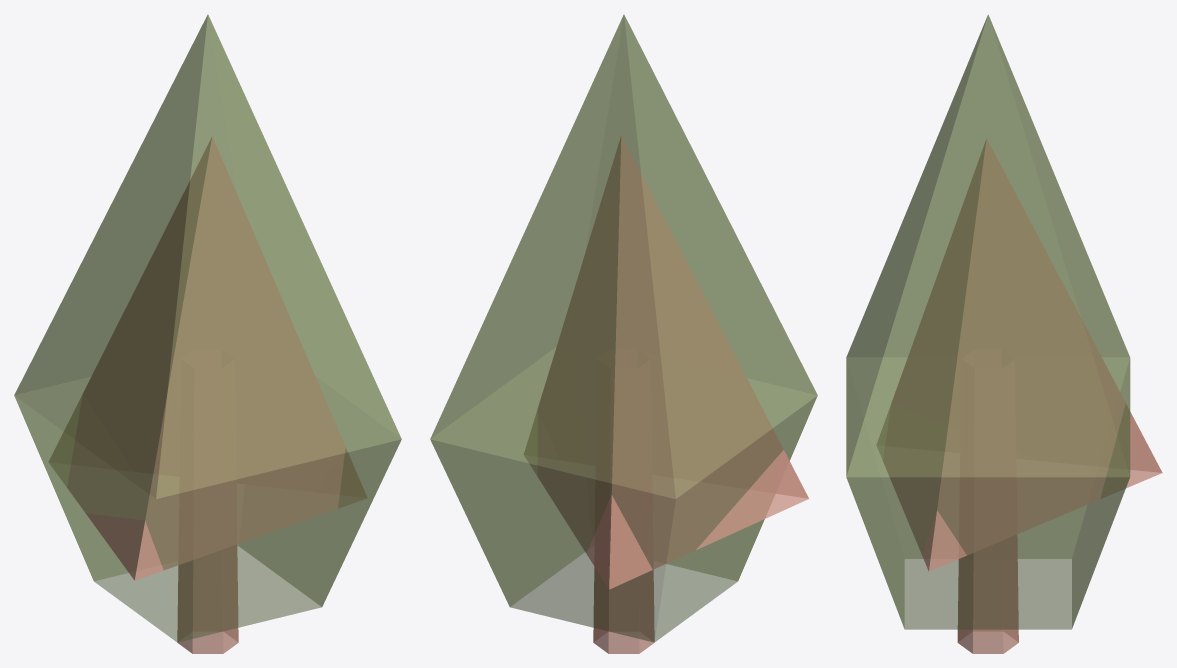
Rendered from christmas_tree_decorated.dae.
The picture shows the model from 3 angles, left to right: view 1: azimuth 30°, elevation 25°; view 2: azimuth 150°, elevation 25°; view 3: azimuth 270°, elevation 25°; orthographic projection.
Visible parts, largest first — view 1: Colmesh-1; view 2: Colmesh-1; view 3: Colmesh-1.
Boxes of the visible parts, left/top/right/bottom form: Colmesh-1: left=14, top=14, right=401, bottom=653; Colmesh-1: left=430, top=14, right=817, bottom=653; Colmesh-1: left=846, top=14, right=1162, bottom=653.
Size of what is drawn, in the model's own units: 1.38 by 1.46 by 3.2.
